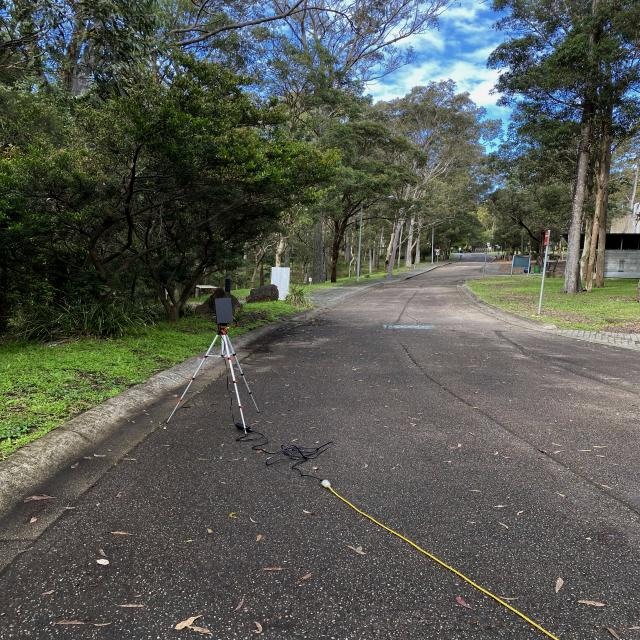matrix: (213, 298, 235, 325)
